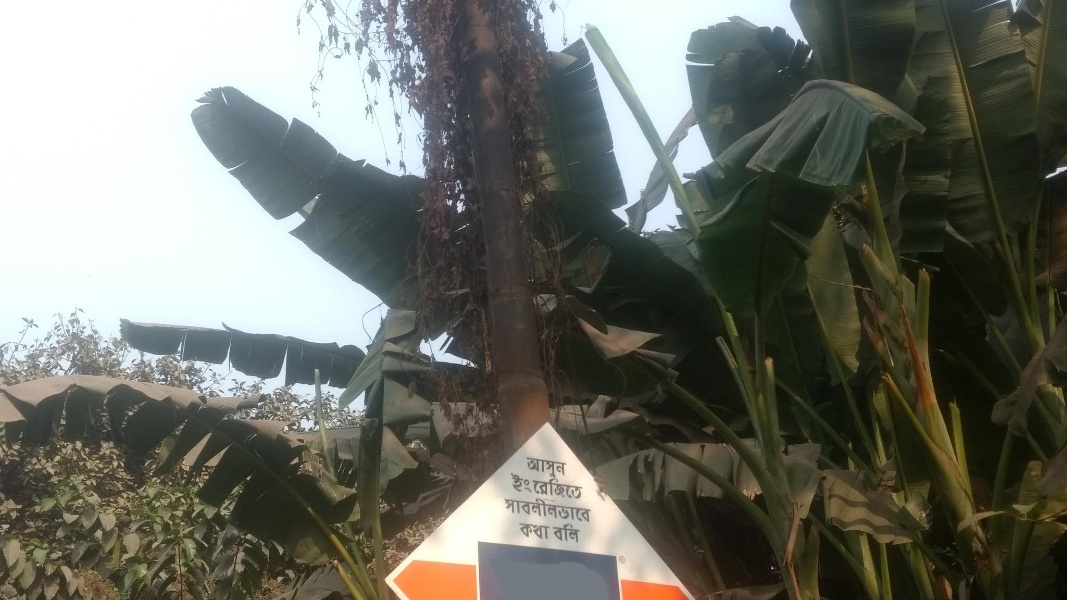text: (513, 493, 528, 524), (529, 493, 544, 524), (545, 493, 560, 524), (561, 493, 576, 524), (577, 493, 592, 524), (513, 472, 528, 500), (529, 472, 544, 500), (545, 472, 560, 500), (561, 472, 576, 500), (529, 457, 544, 480), (545, 457, 560, 480), (561, 522, 576, 544), (529, 522, 544, 541), (504, 493, 512, 524), (577, 472, 584, 500), (519, 522, 528, 541), (553, 522, 560, 544), (561, 457, 567, 480), (545, 522, 552, 541), (577, 522, 581, 544), (620, 556, 624, 565), (527, 457, 528, 480), (625, 556, 627, 565)
